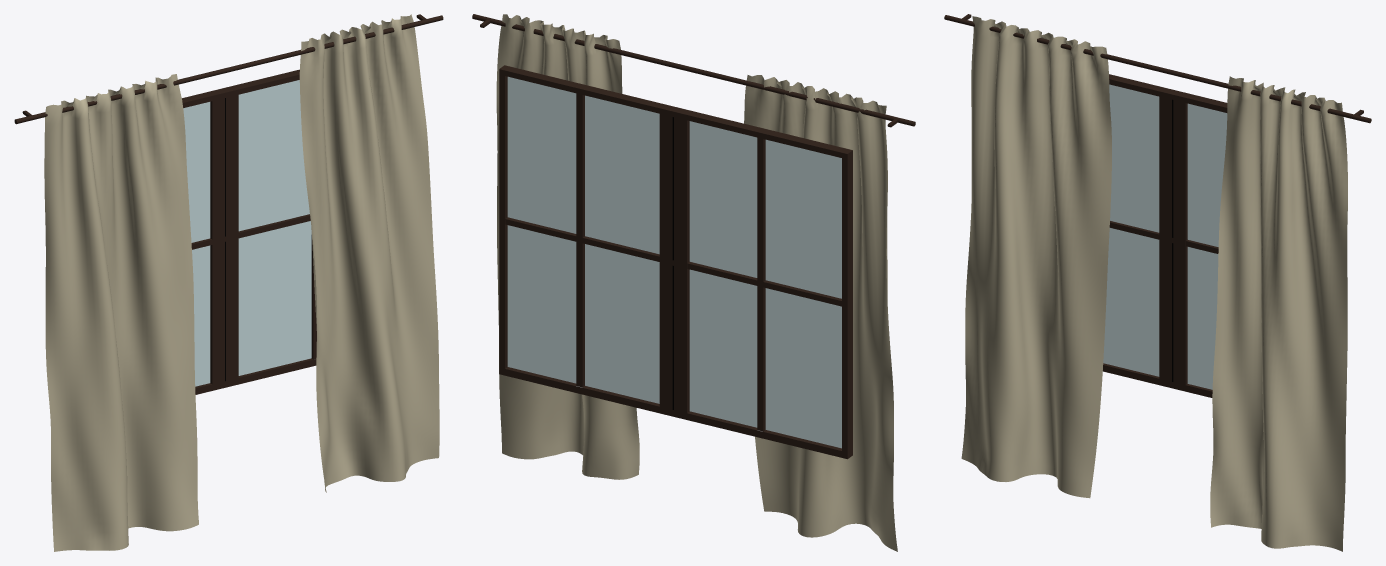
Rendered from janela_com_cortina__window_with_curtain.glb.
3 views of the same model, side by side, from view 1: azimuth 30°, elevation 25°; view 2: azimuth 150°, elevation 25°; view 3: azimuth 330°, elevation 25° (orthographic). The views are drawn at different scales.
Visible parts, largest first — view 1: polySurface49, polySurface50, pCube14, polySurface51; view 2: pCube14, polySurface49, polySurface50, polySurface51; view 3: polySurface49, polySurface50, pCube14, polySurface51.
Boxes of the visible parts, x1,y1,x2,y2 form: polySurface49: (44, 74, 198, 551); polySurface50: (299, 14, 439, 492); pCube14: (182, 69, 316, 394); polySurface51: (14, 14, 443, 124); pCube14: (499, 65, 852, 459); polySurface49: (744, 75, 897, 551); polySurface50: (496, 14, 639, 479); polySurface51: (472, 14, 915, 127); polySurface49: (961, 16, 1111, 498); polySurface50: (1210, 76, 1347, 551); pCube14: (1103, 74, 1227, 397); polySurface51: (944, 14, 1371, 123).
Size of the model in its own units: 1.78 by 1.76 by 0.3118.
